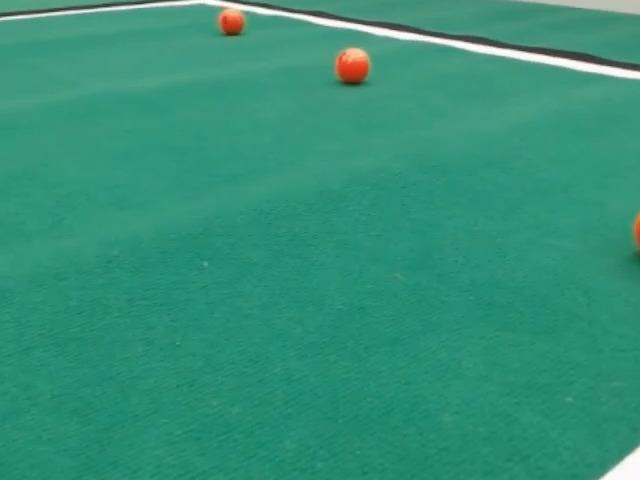Ball: (335, 48, 371, 84), (218, 8, 245, 35), (634, 213, 639, 250)
